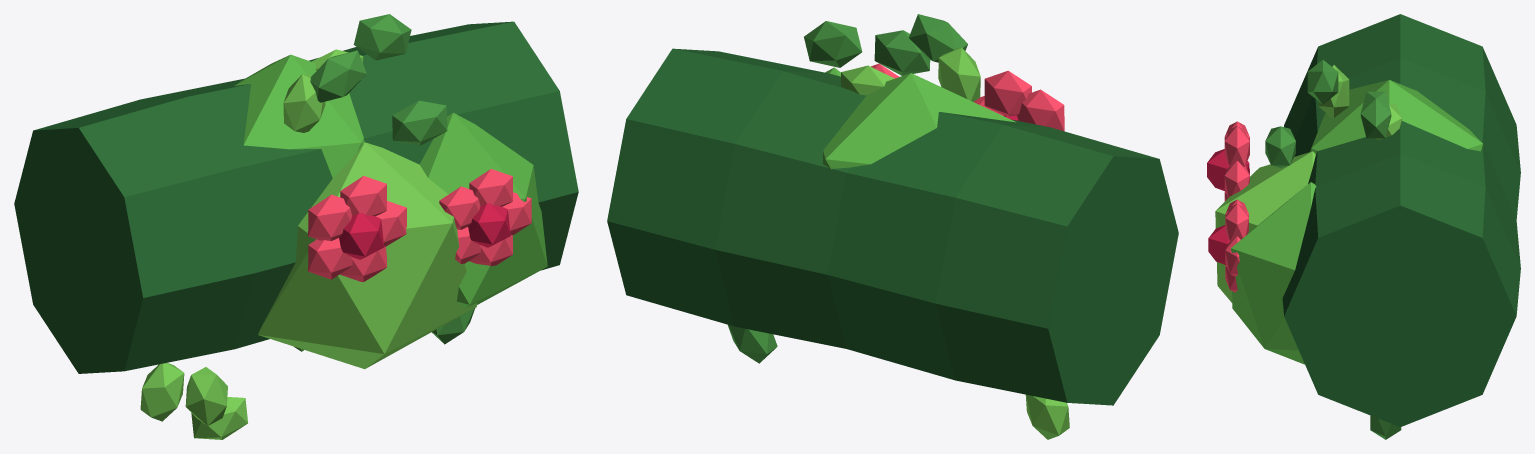
The model's file is hedge_c.glb.
3 views of the same model, side by side, from view 1: azimuth 30°, elevation 25°; view 2: azimuth 150°, elevation 25°; view 3: azimuth 270°, elevation 25° (orthographic). The views are drawn at different scales.
Visible parts, largest first — view 1: Core; view 2: Core; view 3: Core.
Part boxes in pixels (box(x1,y1,x2,y2)): Core: box(14, 14, 578, 439); Core: box(607, 14, 1178, 439); Core: box(1207, 14, 1520, 439).
Size of the model in its own units: 1 by 0.7822 by 0.6926.
